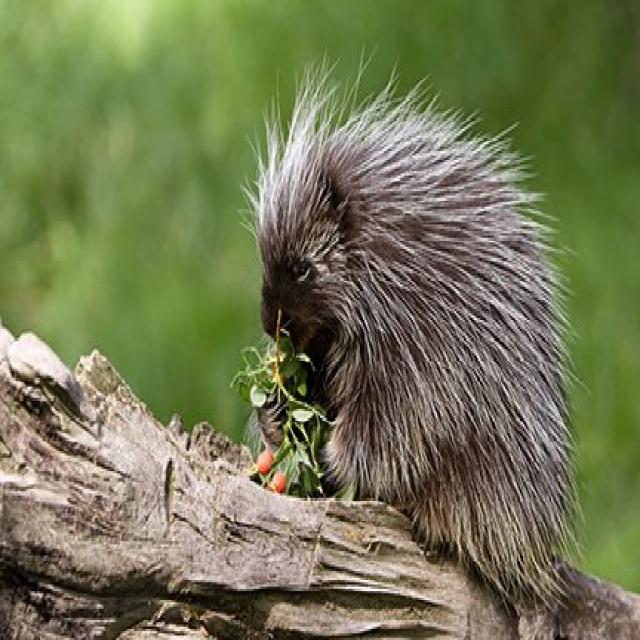porcupine: (252, 71, 570, 598)
